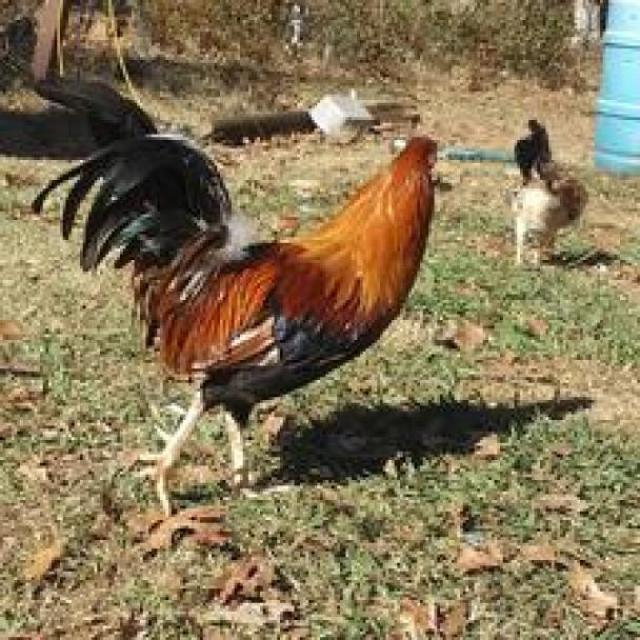Chicken: (32, 45, 456, 530)
